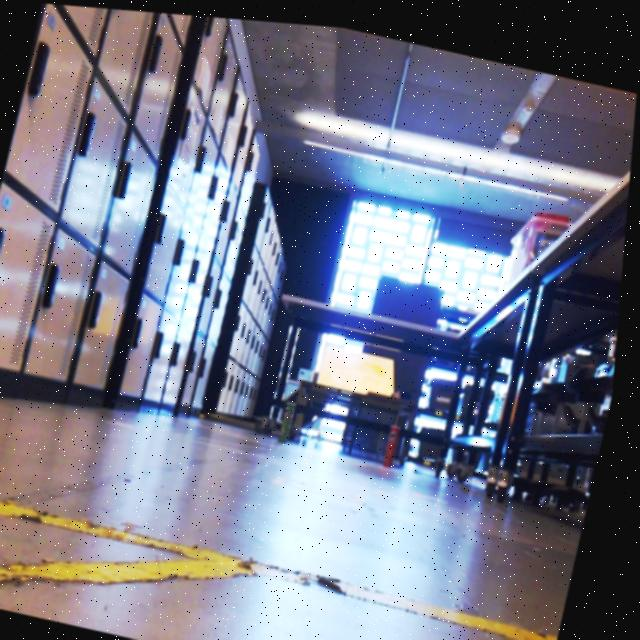greenpringles: (272, 373, 317, 453)
redpringles: (383, 406, 412, 468)
